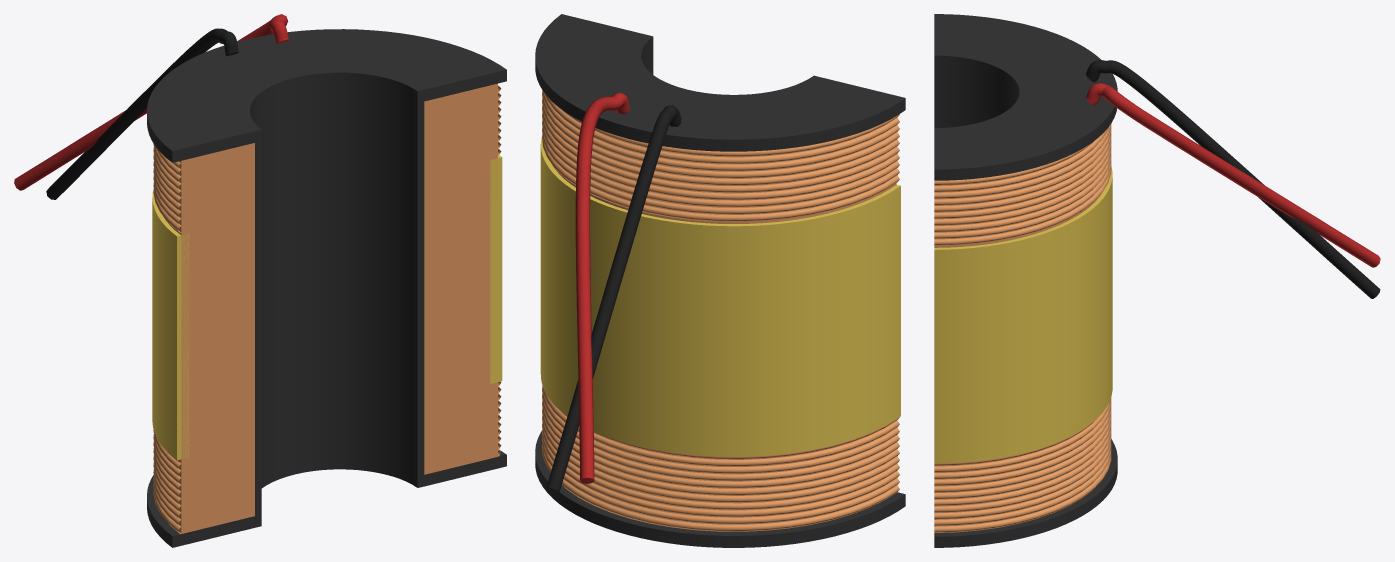
Rendered from coil.glb.
3 renders of one model, left to right at view 1: azimuth 30°, elevation 25°; view 2: azimuth 150°, elevation 25°; view 3: azimuth 270°, elevation 25°, orthographic. The views are drawn at different scales.
Parts seen in each view (by area): view 1: coil; view 2: coil; view 3: coil.
Boxes of the visible parts, x1,y1,x2,y2 form: coil: (14,14,506,547); coil: (535,14,905,547); coil: (934,14,1380,547).
Size of the model in its own units: 30 by 35.8 by 36.35.
